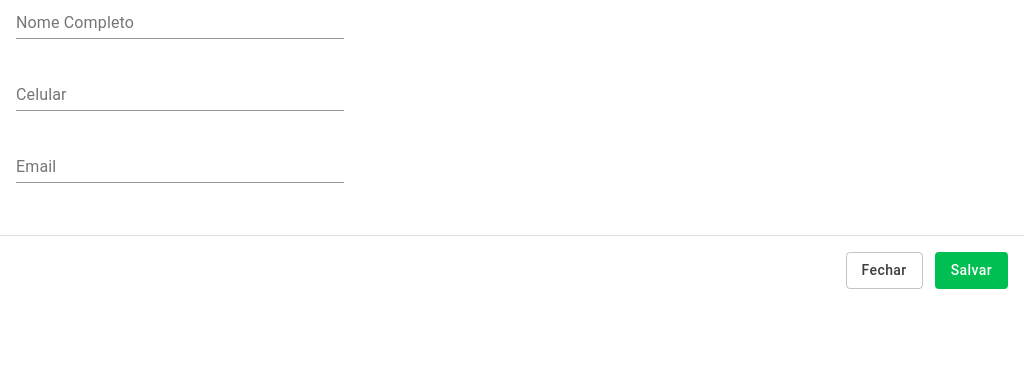
Test case: Tests for Player Form › Show Required Fields OnSubmit
Click the button with test id "submit-user-button": (971,270) [935,252,1008,288]
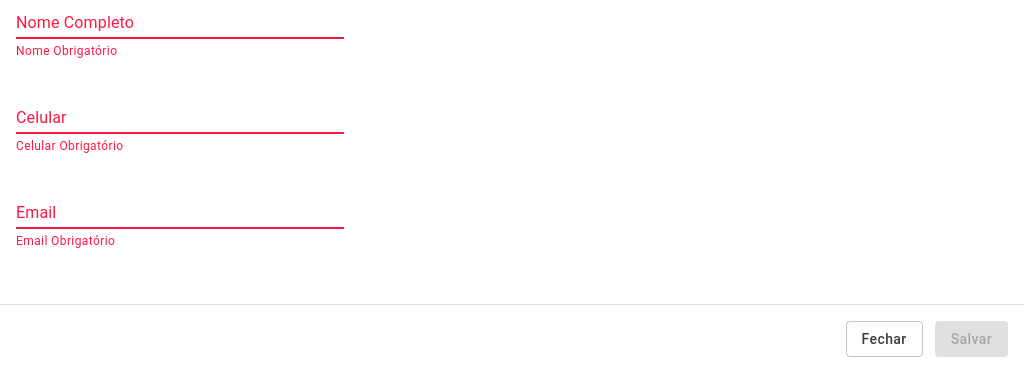
Expected: the text "Nome Obrigatório" is shown, [16,44,117,58]
Expected: the text "Celular Obrigatório" is shown, [16,139,124,153]
Expected: the text "Email Obrigatório" is shown, [16,234,115,248]
